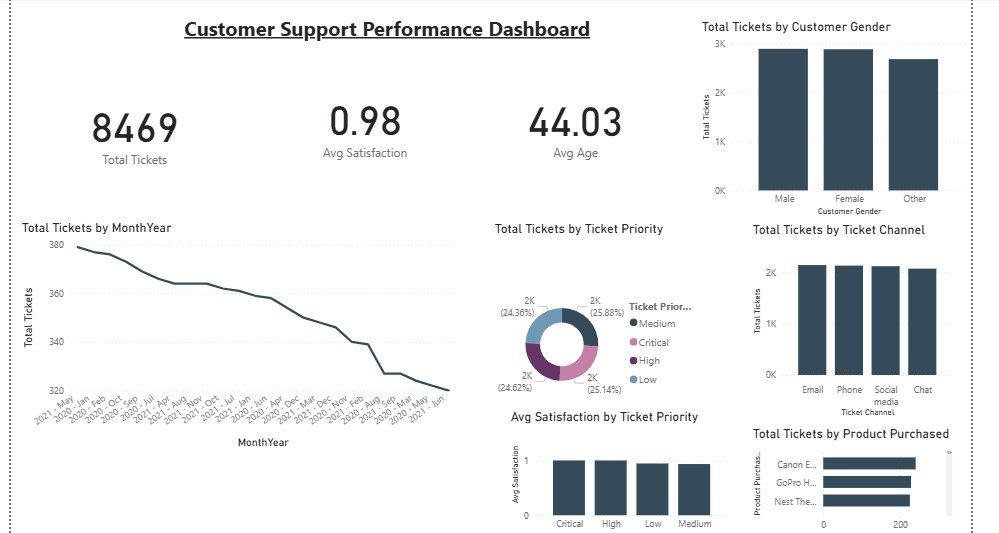

This screenshot's page, from the dashboard's own definition file:
{"tool":"powerbi","page":{"name":"Page 1","canvas":[1280,720],"ordinal":0},"visuals":[{"type":"card","fields":{"Values":["customer_support_tickets.Avg Age"]},"box":[640.5,60.8,225.7,213.5],"z":1000},{"type":"lineChart","fields":{"Category":["Date.MonthYear"],"Y":["customer_support_tickets.Total Tickets"]},"box":[9.5,295.9,587.8,309.5],"z":2000},{"type":"donutChart","fields":{"Category":["customer_support_tickets.Ticket Priority"],"Y":["customer_support_tickets.Total Tickets"]},"box":[640,297,275,310],"z":3000},{"type":"lineClusteredColumnComboChart","fields":{"Category":["customer_support_tickets.Ticket Channel"],"Y":["customer_support_tickets.Total Tickets"]},"box":[984,298,276,264],"z":4000},{"type":"columnChart","fields":{"Category":["customer_support_tickets.Customer Gender"],"Y":["customer_support_tickets.Total Tickets"]},"box":[916.2,28.4,363.5,267.6],"z":5000},{"type":"barChart","fields":{"Category":["customer_support_tickets.Product Purchased"],"Y":["customer_support_tickets.Total Tickets"]},"box":[984,570,276,150],"z":6000},{"type":"clusteredColumnChart","fields":{"Category":["customer_support_tickets.Ticket Priority"],"Y":["customer_support_tickets.Avg Satisfaction"]},"box":[661.7,548.3,300,171.7],"z":7000},{"type":"textbox","box":[137.8,16.2,728.4,59.5],"z":8000},{"type":"card","fields":{"Values":["customer_support_tickets.Avg Satisfaction"]},"box":[304.1,66.2,336.5,201.4],"z":8001},{"type":"card","fields":{"Values":["customer_support_tickets.Total Tickets"]},"box":[27,75.7,277,201.4],"z":8002}]}

Visuals, with their boxes on the page's 1280x720 design canvas (x1, y1, x2, y2). These are canvas units, not pixel positions in the 999x533 screenshot, which may show the page scaled, cropped or inside an application window:
card - customer_support_tickets.Avg Age: 640/61/866/274
lineChart - Date.MonthYear x customer_support_tickets.Total Tickets: 10/296/597/605
donutChart - customer_support_tickets.Ticket Priority x customer_support_tickets.Total Tickets: 640/297/915/607
lineClusteredColumnComboChart - customer_support_tickets.Ticket Channel x customer_support_tickets.Total Tickets: 984/298/1260/562
columnChart - customer_support_tickets.Customer Gender x customer_support_tickets.Total Tickets: 916/28/1280/296
barChart - customer_support_tickets.Product Purchased x customer_support_tickets.Total Tickets: 984/570/1260/720
clusteredColumnChart - customer_support_tickets.Ticket Priority x customer_support_tickets.Avg Satisfaction: 662/548/962/720
textbox: 138/16/866/76
card - customer_support_tickets.Avg Satisfaction: 304/66/641/268
card - customer_support_tickets.Total Tickets: 27/76/304/277
